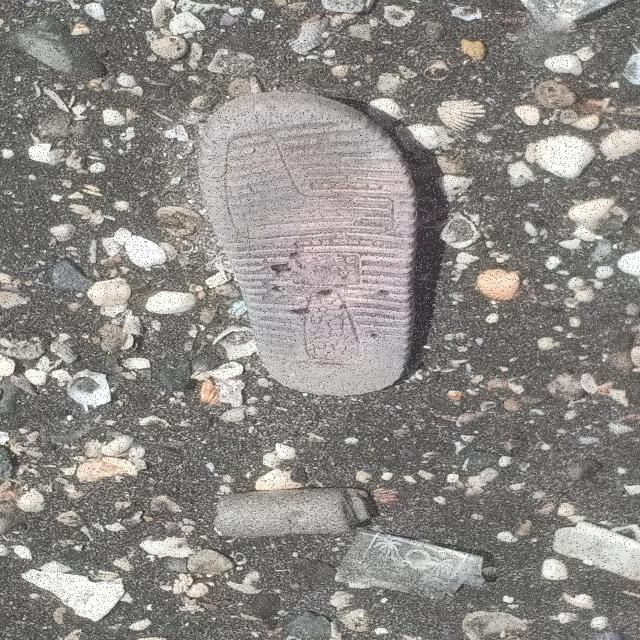plastic_waste: (336, 533, 486, 601)
rubber_waste: (198, 93, 418, 400)
